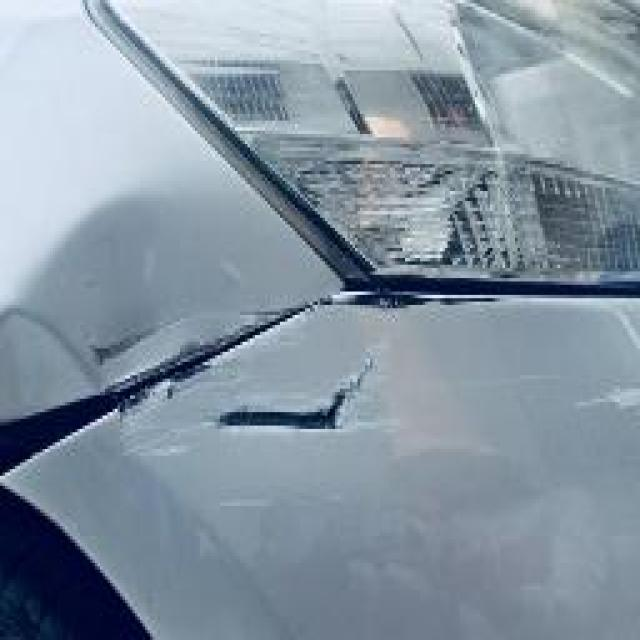Bumper: (2, 121, 638, 640)
